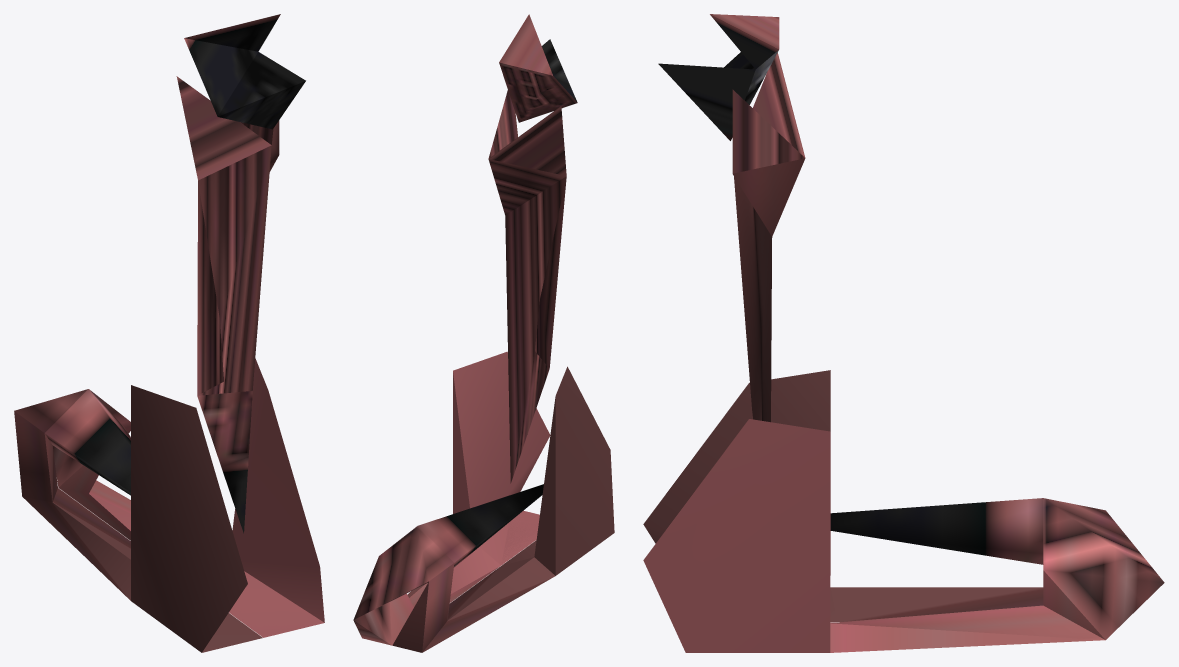
The model's file is ball_arm3.obj.
The picture shows the model from 3 angles, left to right: view 1: azimuth 30°, elevation 25°; view 2: azimuth 150°, elevation 25°; view 3: azimuth 270°, elevation 25°; orthographic projection. The views are drawn at different scales.
Parts seen in each view (by area): view 1: pCylinder7; view 2: pCylinder7; view 3: pCylinder7.
Boxes of the visible parts, <box> form: pCylinder7: <box>14,14,324,652</box>; pCylinder7: <box>353,14,614,652</box>; pCylinder7: <box>643,14,1164,652</box>.
Bounding box in the file's own units: 0.445 × 2.1 × 1.59.
